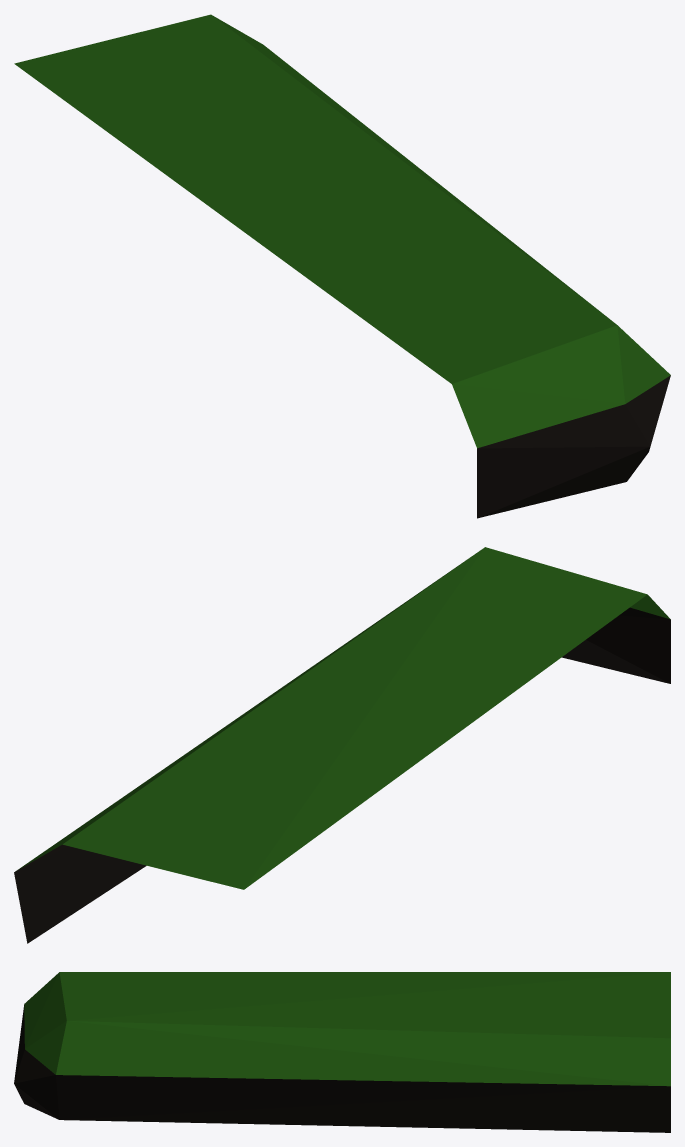
The model's file is 2D_Island_Top_EndR.fbx.
The picture shows the model from 3 angles, top to bottom: view 1: azimuth 30°, elevation 25°; view 2: azimuth 150°, elevation 25°; view 3: azimuth 270°, elevation 25°; orthographic projection. The views are drawn at different scales.
Parts seen in each view (by area): view 1: 2D_Island_Top_EndR; view 2: 2D_Island_Top_EndR; view 3: 2D_Island_Top_EndR.
Boxes of the visible parts, box(x1,y1,x2,y2) form: 2D_Island_Top_EndR: box(14, 14, 670, 518); 2D_Island_Top_EndR: box(14, 547, 670, 943); 2D_Island_Top_EndR: box(14, 972, 670, 1132).
Bounding box in the file's own units: 270 × 134 × 881.
